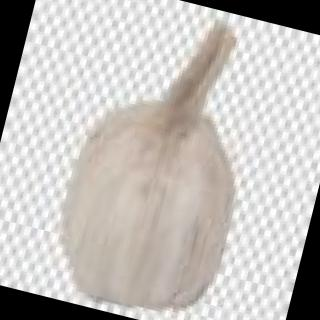Bawang Putih: (22, 1, 289, 320)
